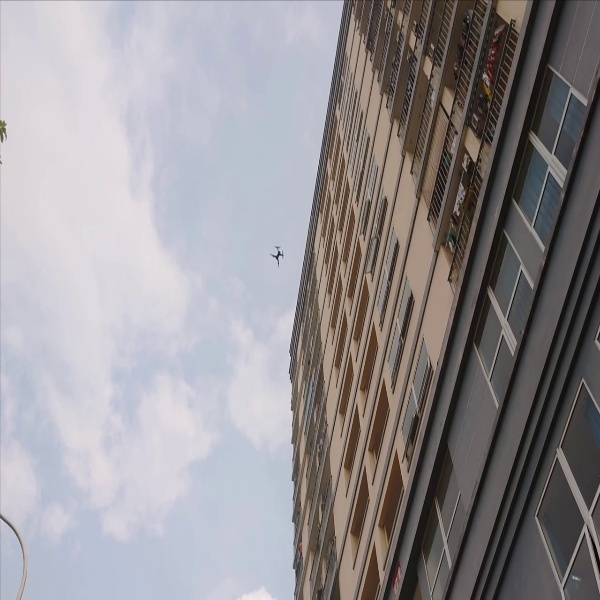drone: (260, 231, 291, 270)
